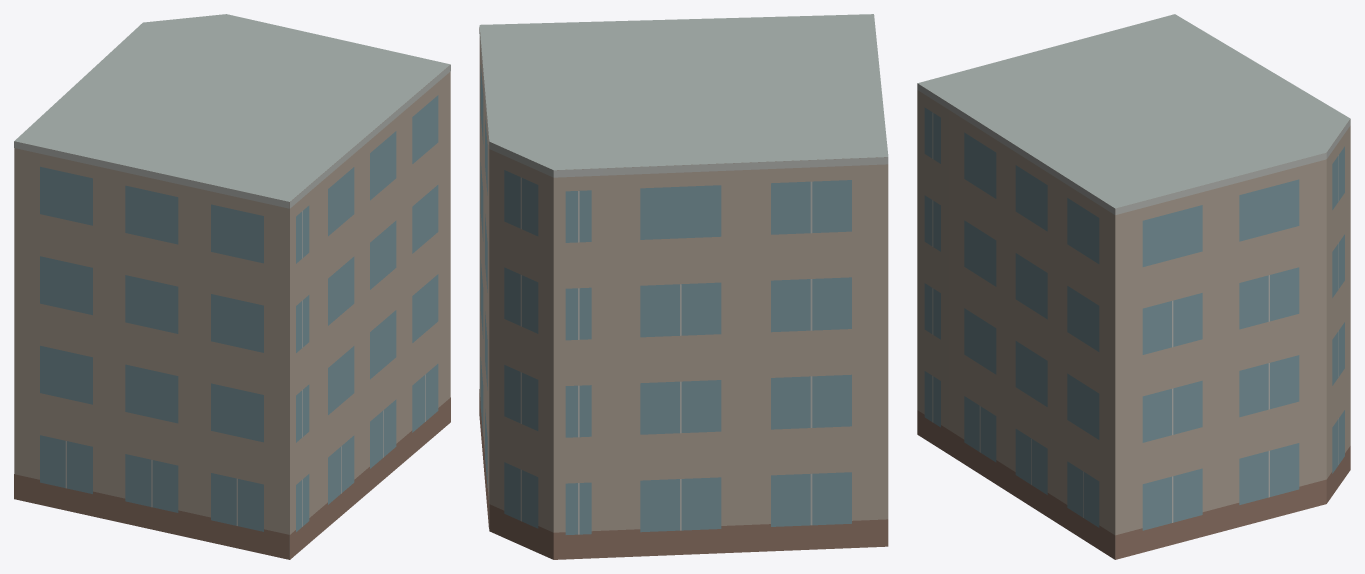
Rendered from survey-upis-32955917.glb.
3 renders of one model, left to right at view 1: azimuth 30°, elevation 25°; view 2: azimuth 150°, elevation 25°; view 3: azimuth 270°, elevation 25°, orthographic. The views are drawn at different scales.
Parts seen in each view (by area): view 1: survey-upis-32955917.tmp; view 2: survey-upis-32955917.tmp; view 3: survey-upis-32955917.tmp.
Boxes of the visible parts, box(x1,y1,x2,y2) form: survey-upis-32955917.tmp: box(14, 14, 450, 559); survey-upis-32955917.tmp: box(479, 14, 888, 559); survey-upis-32955917.tmp: box(917, 14, 1350, 559).
Size of the model in its own units: 15.21 by 12.8 by 14.31.
